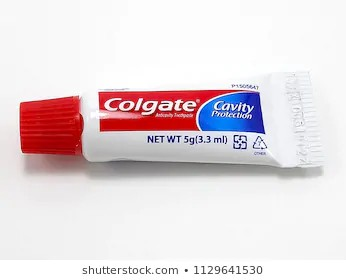colgate-small: (10, 71, 329, 177)
